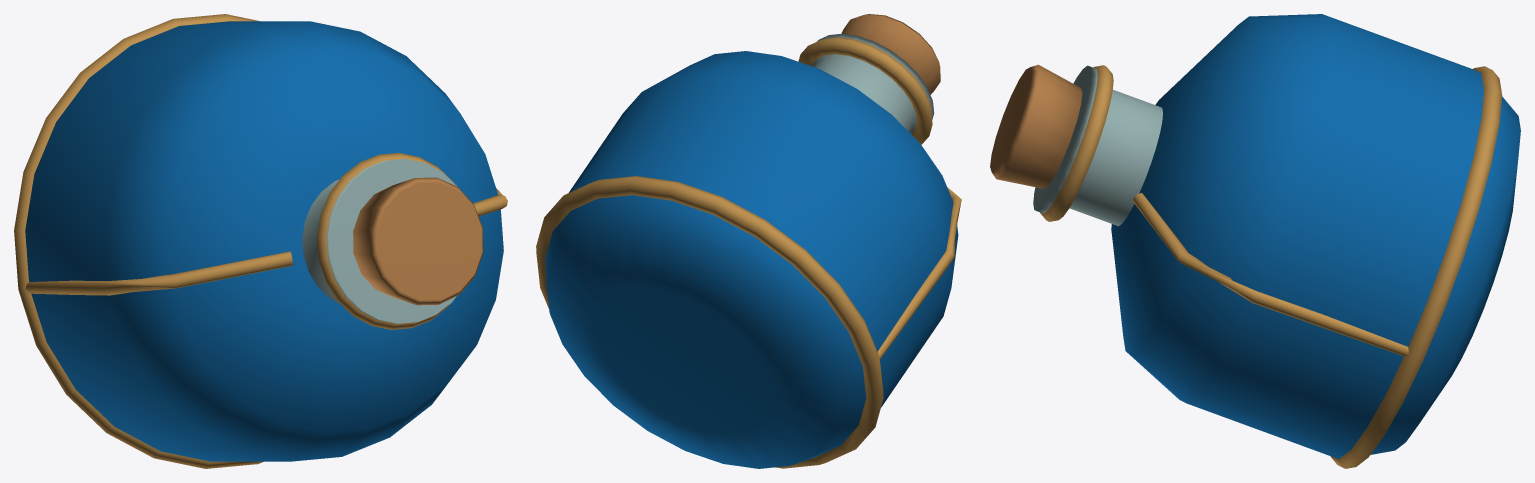
File: mana_l.glb
The picture shows the model from 3 angles, left to right: view 1: azimuth 30°, elevation 25°; view 2: azimuth 150°, elevation 25°; view 3: azimuth 270°, elevation 25°; orthographic projection. The views are drawn at different scales.
Parts seen in each view (by area): view 1: SM_mana_l; view 2: SM_mana_l; view 3: SM_mana_l.
Boxes of the visible parts, x1,y1,x2,y2 form: SM_mana_l: (14,14,507,468); SM_mana_l: (536,14,961,468); SM_mana_l: (990,14,1520,468).
Bounding box in the file's own units: 0.3587 × 0.3793 × 0.4413.
